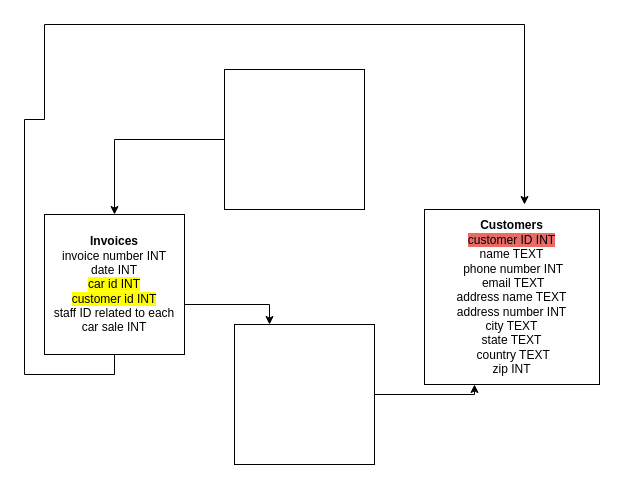
Image size: 617x482. Some labels were removed from this diagram. Here are the shapes that lost their labels. From the top down, the box of each, then its label:
(224, 68, 364, 210): Cars car id INT VIN INT manufacturer TEXT model INT year INT color TEXT
(234, 324, 374, 464): Salespersons staff ID INT name TEXT store id INT
